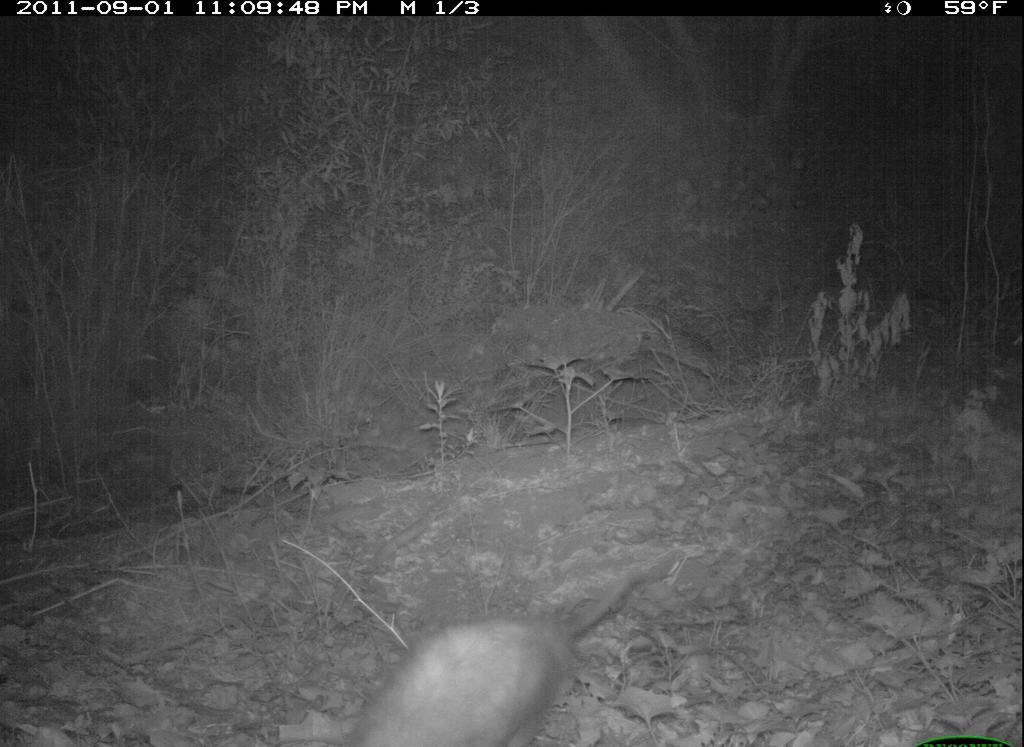opossum: (337, 574, 665, 747)
